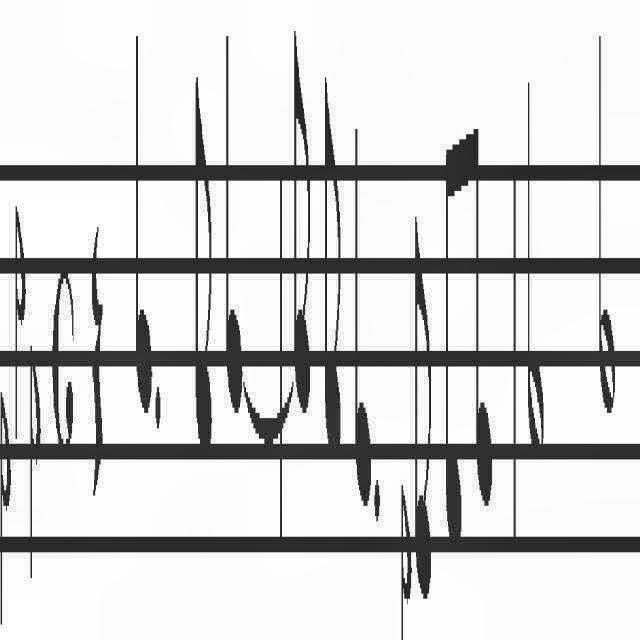Bemol: (12, 188, 26, 472), (26, 329, 40, 603), (394, 484, 418, 640), (0, 387, 12, 640)
Eighth-note: (188, 26, 216, 507), (467, 103, 497, 549), (320, 29, 348, 498), (442, 33, 462, 564), (290, 0, 312, 448), (415, 166, 435, 630)
Half-note: (589, 0, 631, 448), (524, 0, 548, 480)
Quarter-note: (127, 19, 153, 434), (353, 19, 373, 538), (221, 0, 242, 464)
Quarter-rest: (85, 213, 106, 503)
